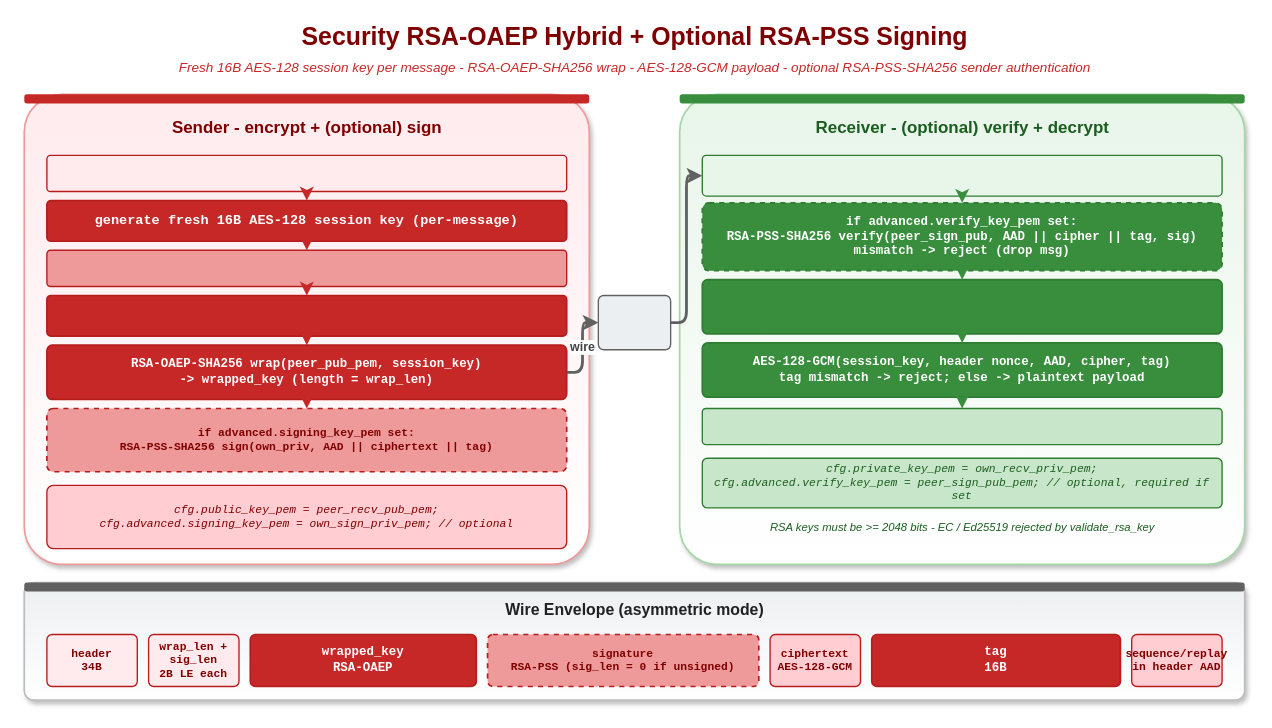
Image size: 1272x728. Some labels were removed from this diagram. Each missing label, with the centre of its shape:
"AES-128-GCM(session_key, nonce, AAD, plain) -> ciphertext + 16B tag" belongs at (306,315).
"dds:// transport" belongs at (634,322).
"deliver plaintext to user listen callback" belongs at (961,426).
"derive 12B nonce from sender base + sequence" belongs at (306,268).
"parse envelope: header || lengths || wrapped_key || sig || cipher || tag" belongs at (961,175).
"plaintext payload (Bytes)" belongs at (306,173).
"RSA-OAEP-SHA256 unwrap(own_priv_pem, wrapped_key) -> recover 16B AES session key" belongs at (961,306).
